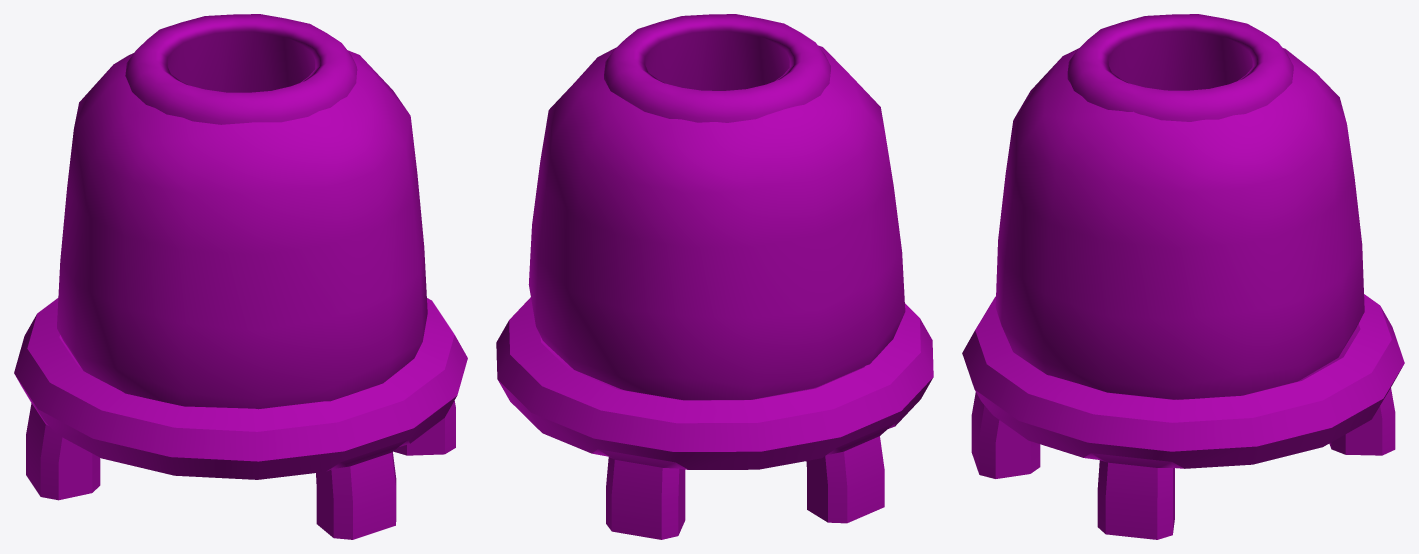
Rendered from Crystal_Depot.fbx.
3 views of the same model, side by side, from view 1: azimuth 30°, elevation 25°; view 2: azimuth 150°, elevation 25°; view 3: azimuth 270°, elevation 25° (orthographic). The views are drawn at different scales.
Parts seen in each view (by area): view 1: Crystal_Depot; view 2: Crystal_Depot; view 3: Crystal_Depot.
Boxes of the visible parts, <box> form: Crystal_Depot: <box>14,14,467,539</box>; Crystal_Depot: <box>496,14,933,539</box>; Crystal_Depot: <box>962,14,1404,539</box>.
Size of the model in its own units: 4.6 by 4.54 by 4.6.
